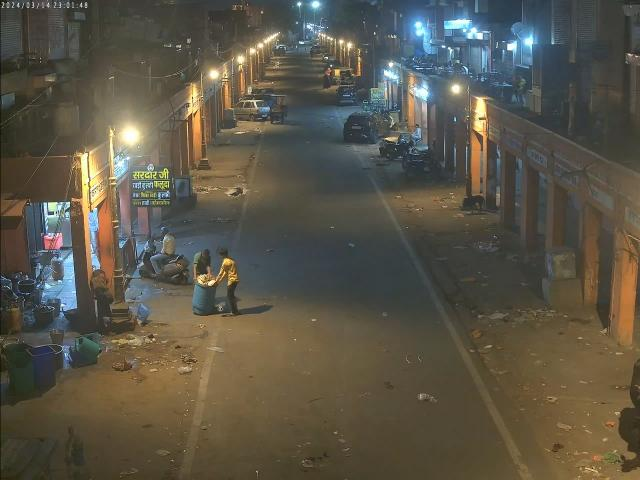person: (214, 246, 242, 315), (193, 247, 212, 283)
scooty-rider: (138, 226, 191, 286)
